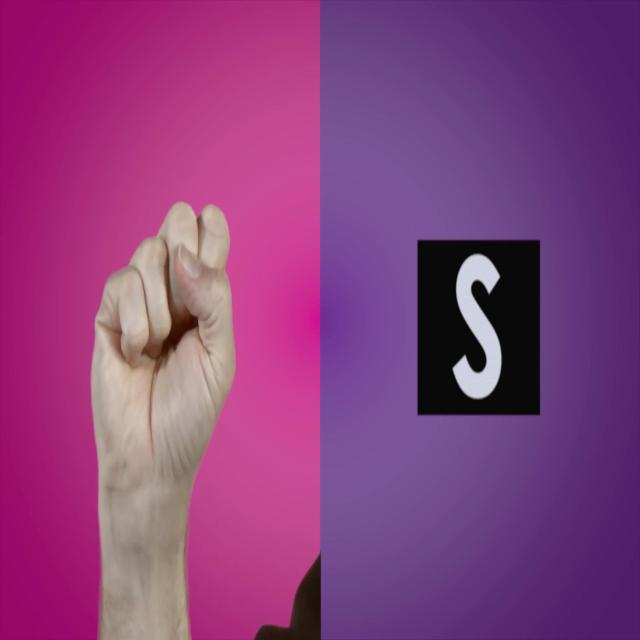S: (57, 169, 265, 640)
